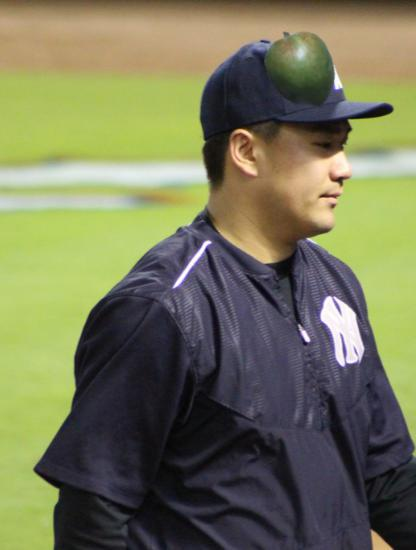Mango: (259, 28, 343, 112)
